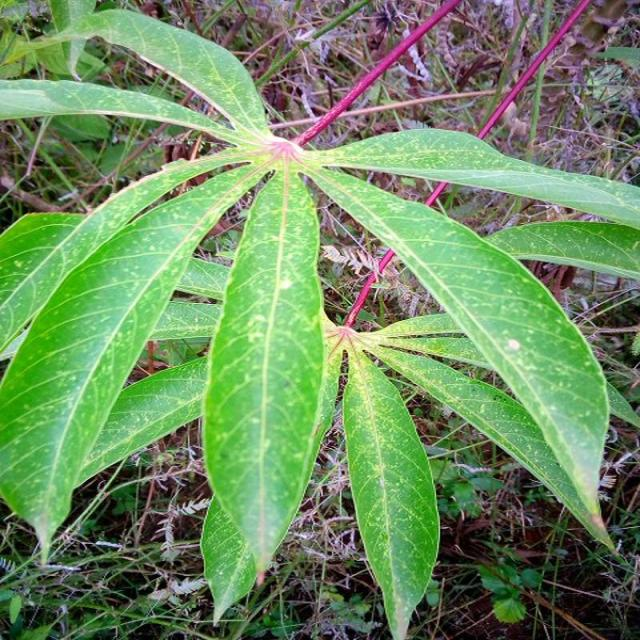cassava leaf: (0, 1, 638, 633), (304, 159, 614, 551), (0, 156, 259, 564), (200, 161, 326, 578), (341, 339, 441, 639)
